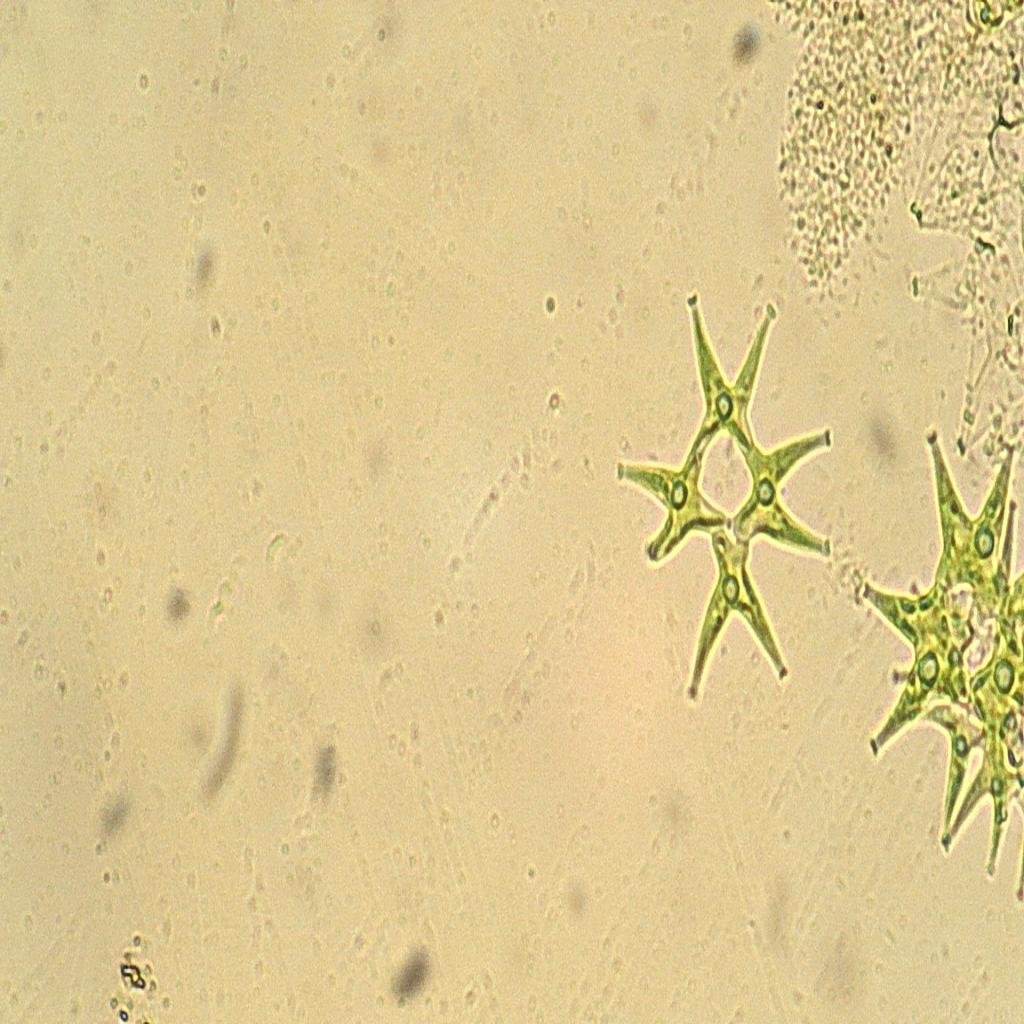Pediastrum_CT: (612, 273, 843, 714)
